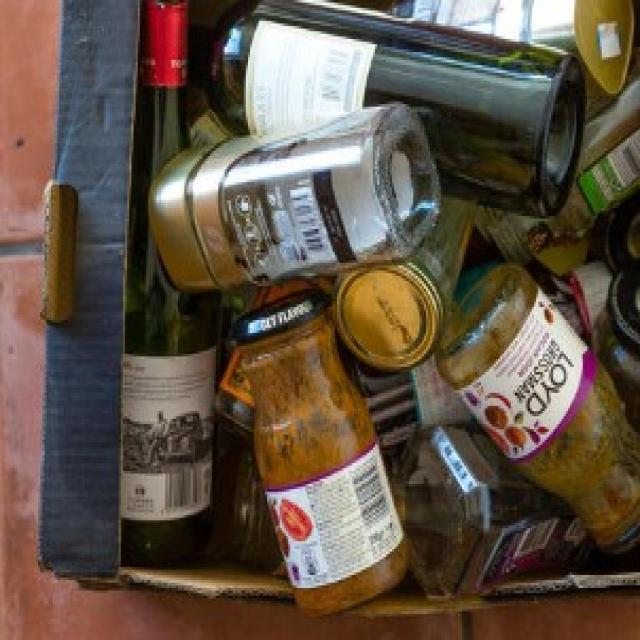electronic: (122, 0, 640, 611)
